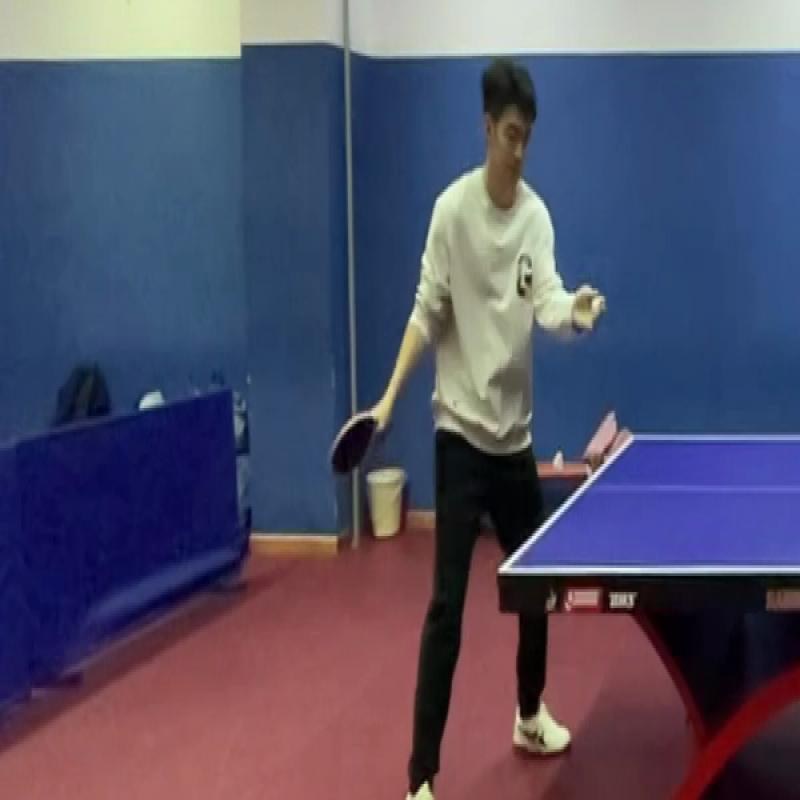bats: (318, 400, 382, 492)
